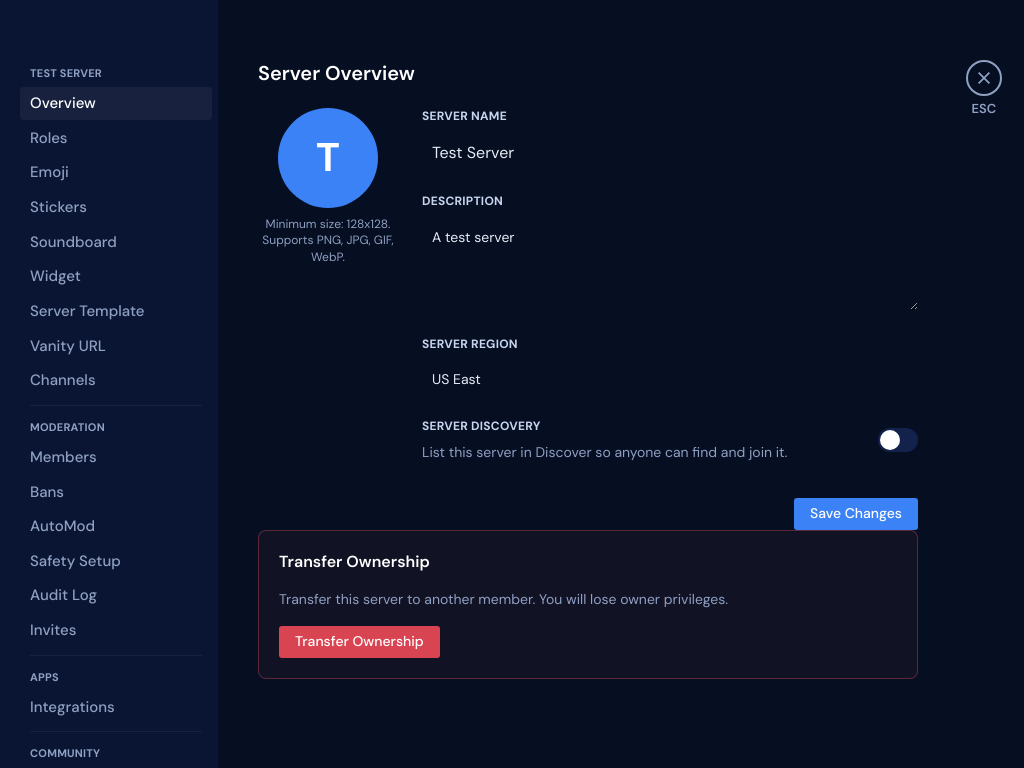
ServerSettings › renders Roles section when clicking Roles nav item
The image size is (1024, 768).
Click the button "Roles": (116, 138) [20,122,212,154]
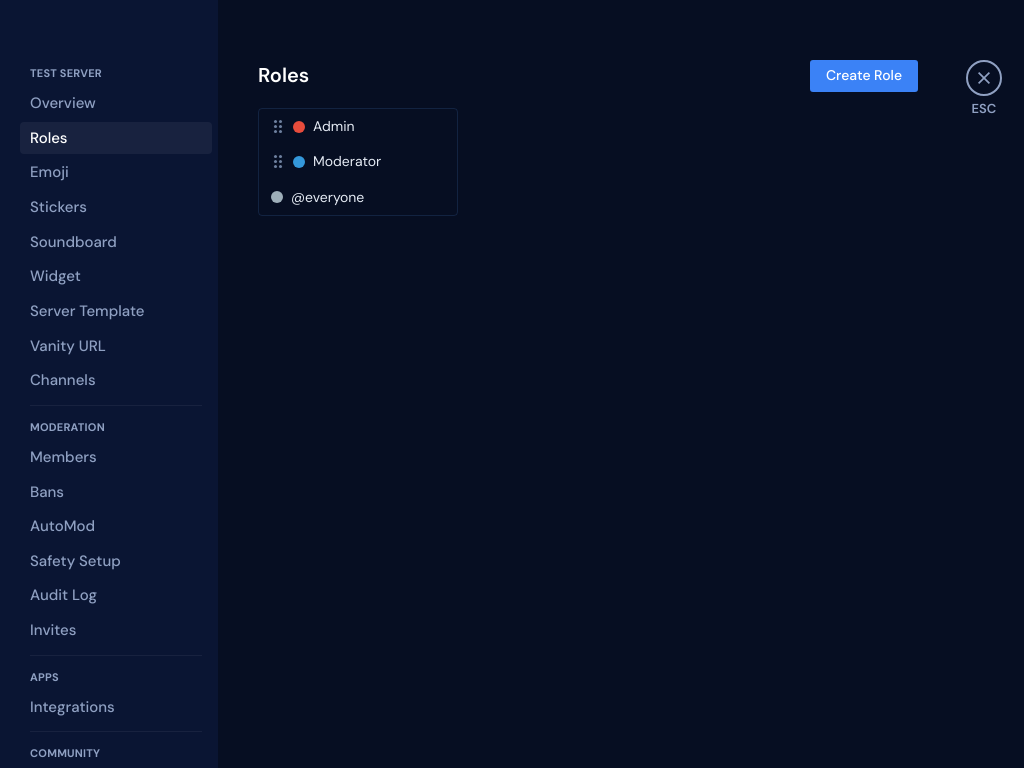
Now the button "Create Role" is shown, box [810,60,918,92]
